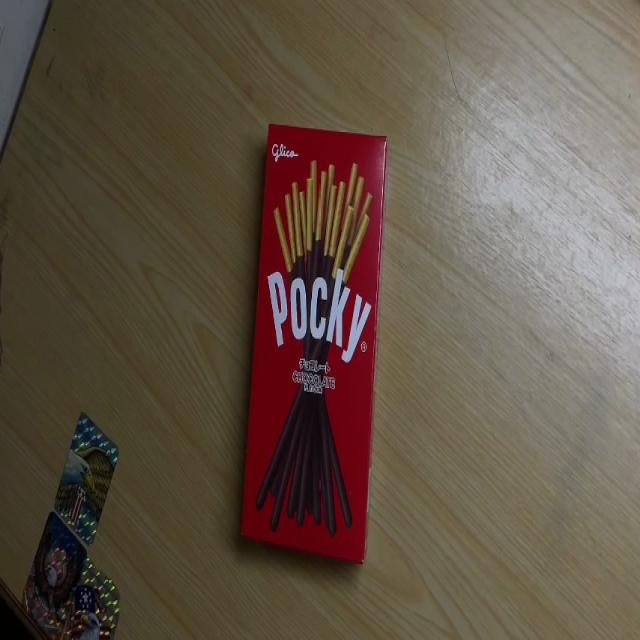Pocky: (238, 121, 388, 564)
